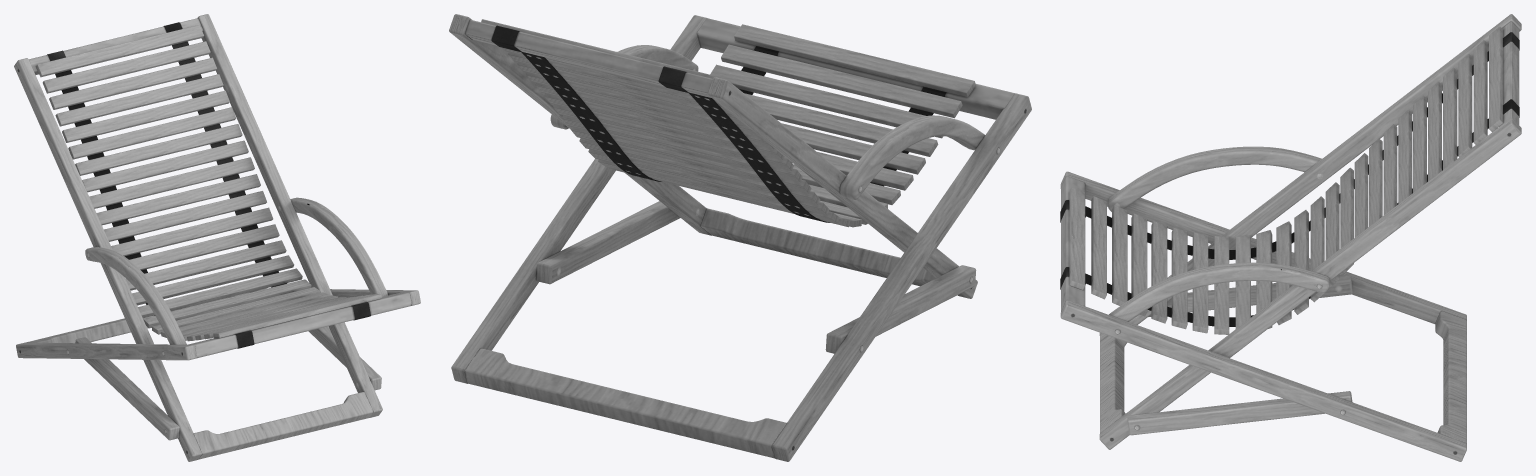
The model's file is lameli(chair)_01.glb.
3 renders of one model, left to right at view 1: azimuth 30°, elevation 25°; view 2: azimuth 150°, elevation 25°; view 3: azimuth 270°, elevation 25°, orthographic. The views are drawn at different scales.
Parts seen in each view (by area): view 1: Sun_Lounger_v2_wood_part, Sun_Lounger_v2_fabric_part; view 2: Sun_Lounger_v2_wood_part, Sun_Lounger_v2_fabric_part; view 3: Sun_Lounger_v2_wood_part, Sun_Lounger_v2_fabric_part.
Boxes of the visible parts, x1,y1,x2,y2 form: Sun_Lounger_v2_wood_part: (14,14,420,461); Sun_Lounger_v2_fabric_part: (55,41,287,315); Sun_Lounger_v2_wood_part: (449,14,1031,461); Sun_Lounger_v2_fabric_part: (521,47,946,222); Sun_Lounger_v2_wood_part: (1060,14,1521,461); Sun_Lounger_v2_fabric_part: (1085,51,1488,326).
Size of what is drawn, in the model's own units: 0.8229 by 0.9281 by 1.19.
2 materials, 2 textured.
